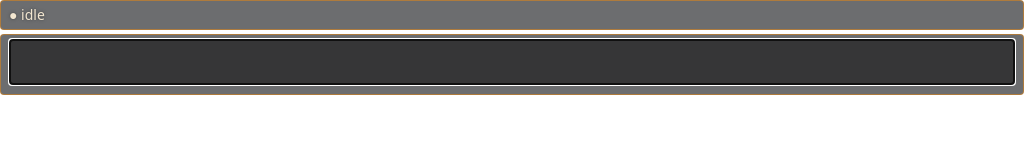
Scenario: chat › focuses the input, and Enter sends the text and clears it
Type "where to?" into the text box at (512, 62), box [9,39,1015,85]
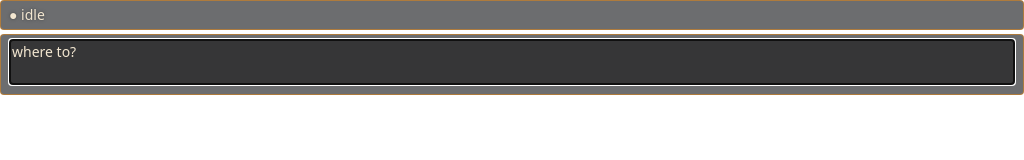
// Shift+Enter is a new line, not a send.
Press Enter in the text box, box [9,39,1015,85]
Press Enter in the text box, box [9,39,1015,85]
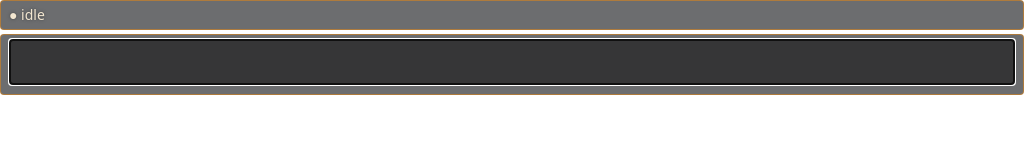
Check: the text box is empty, box [9,39,1015,85]
